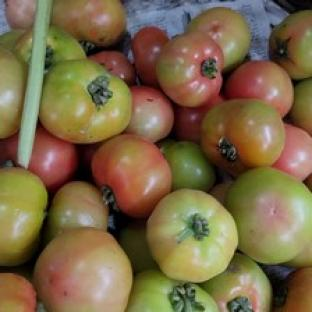Tomato: (147, 189, 238, 282), (225, 168, 311, 264), (34, 228, 132, 311), (39, 59, 132, 143), (91, 133, 171, 218), (201, 99, 285, 175), (156, 33, 224, 107), (0, 168, 47, 266), (200, 253, 272, 311), (187, 6, 250, 72), (42, 180, 108, 243), (223, 60, 293, 116), (126, 269, 218, 311), (28, 124, 77, 193), (268, 10, 311, 80), (124, 85, 174, 142), (165, 141, 215, 192), (0, 46, 27, 139), (173, 94, 224, 143), (131, 26, 169, 89), (272, 123, 311, 181), (117, 219, 157, 272), (45, 26, 86, 72), (88, 51, 136, 86), (273, 267, 311, 311), (0, 272, 36, 311), (289, 77, 311, 135), (209, 180, 232, 204), (0, 30, 25, 50)
